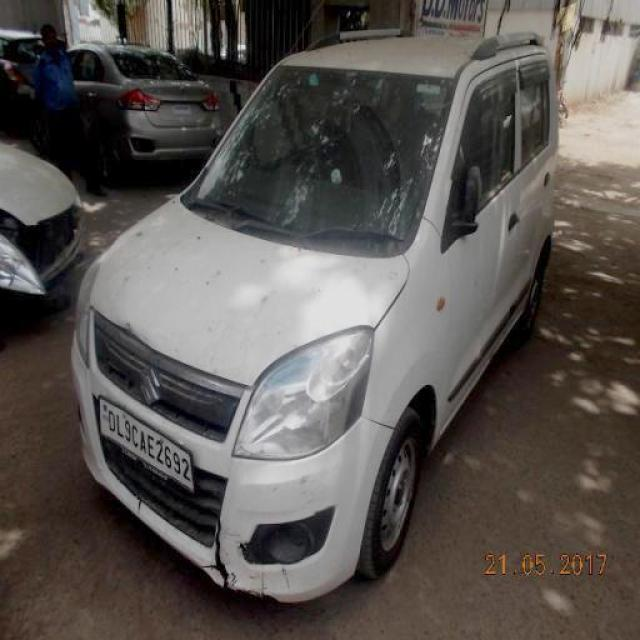car damage: (201, 515, 238, 589), (299, 474, 328, 517), (257, 566, 270, 599), (236, 537, 249, 560), (282, 567, 293, 593), (122, 321, 138, 335), (137, 498, 143, 516)
